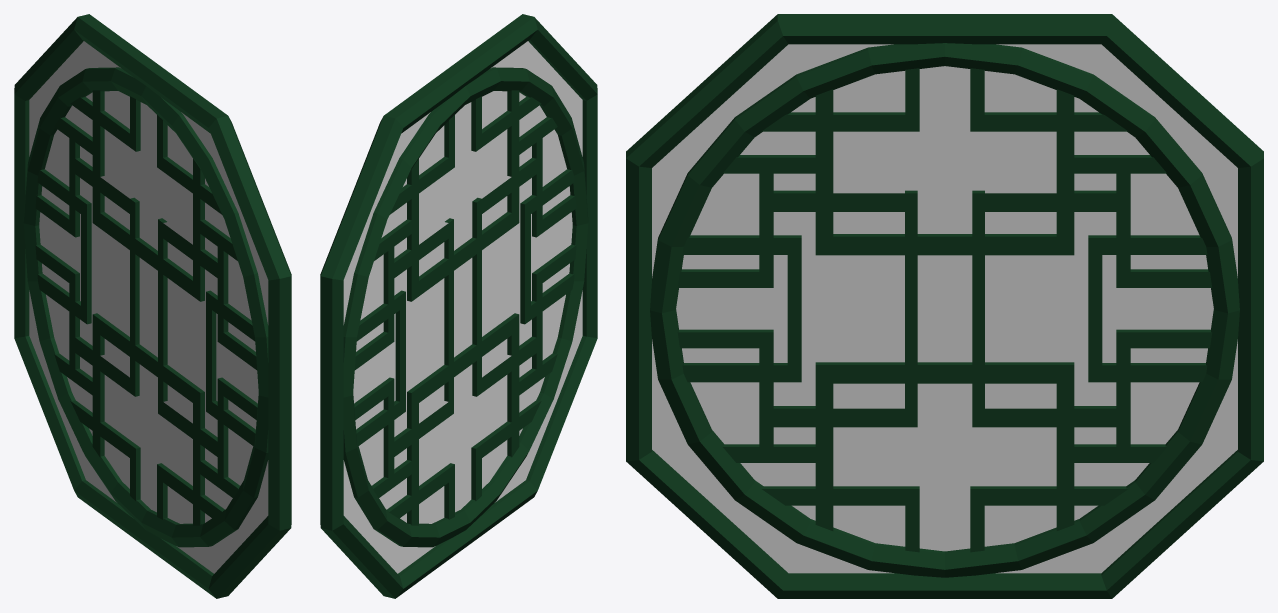
Rendered from Restraunt_Windows.fbx.
3 views of the same model, side by side, from view 1: azimuth 30°, elevation 25°; view 2: azimuth 150°, elevation 25°; view 3: azimuth 270°, elevation 25° (orthographic). The views are drawn at different scales.
Parts seen in each view (by area): view 1: FRAME.003; view 2: FRAME.003; view 3: FRAME.003.
Boxes of the visible parts, <box> form: FRAME.003: <box>14,14,291,598</box>; FRAME.003: <box>320,14,597,598</box>; FRAME.003: <box>626,14,1263,598</box>.
Size of the model in its own units: 53 by 1044 by 1044.
